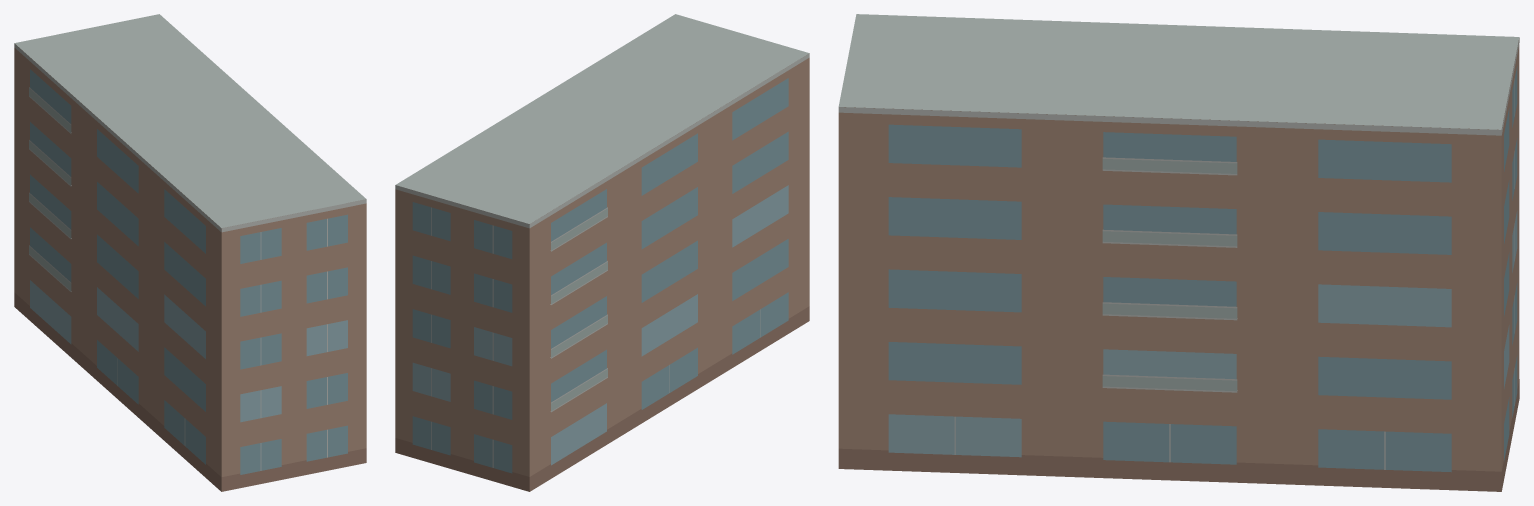
Rendered from residential-9da84e9d-7054-440b-9b29-1f80146b3989.glb.
3 views of the same model, side by side, from view 1: azimuth 30°, elevation 25°; view 2: azimuth 150°, elevation 25°; view 3: azimuth 270°, elevation 25° (orthographic). The views are drawn at different scales.
Visible parts, largest first — view 1: residential-9da84e9d-7054-440b-9b29-1f80146b3989.tmp; view 2: residential-9da84e9d-7054-440b-9b29-1f80146b3989.tmp; view 3: residential-9da84e9d-7054-440b-9b29-1f80146b3989.tmp.
Boxes of the visible parts, x1=… form: residential-9da84e9d-7054-440b-9b29-1f80146b3989.tmp: x1=14, y1=14, x2=366, y2=491; residential-9da84e9d-7054-440b-9b29-1f80146b3989.tmp: x1=395, y1=14, x2=809, y2=491; residential-9da84e9d-7054-440b-9b29-1f80146b3989.tmp: x1=838, y1=14, x2=1519, y2=491.
Bounding box in the file's own units: 10.48 × 15.25 × 26.01.
